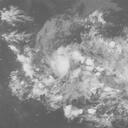cyclone: (32, 26, 117, 102)
